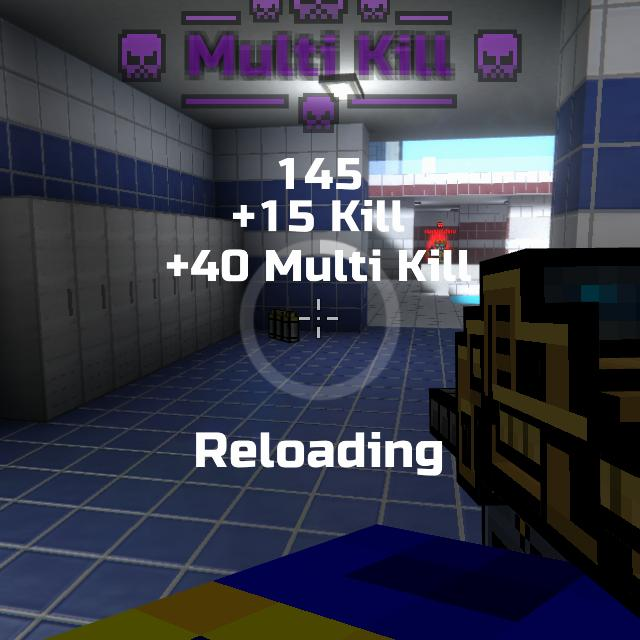Enemy: (426, 241, 449, 265)
